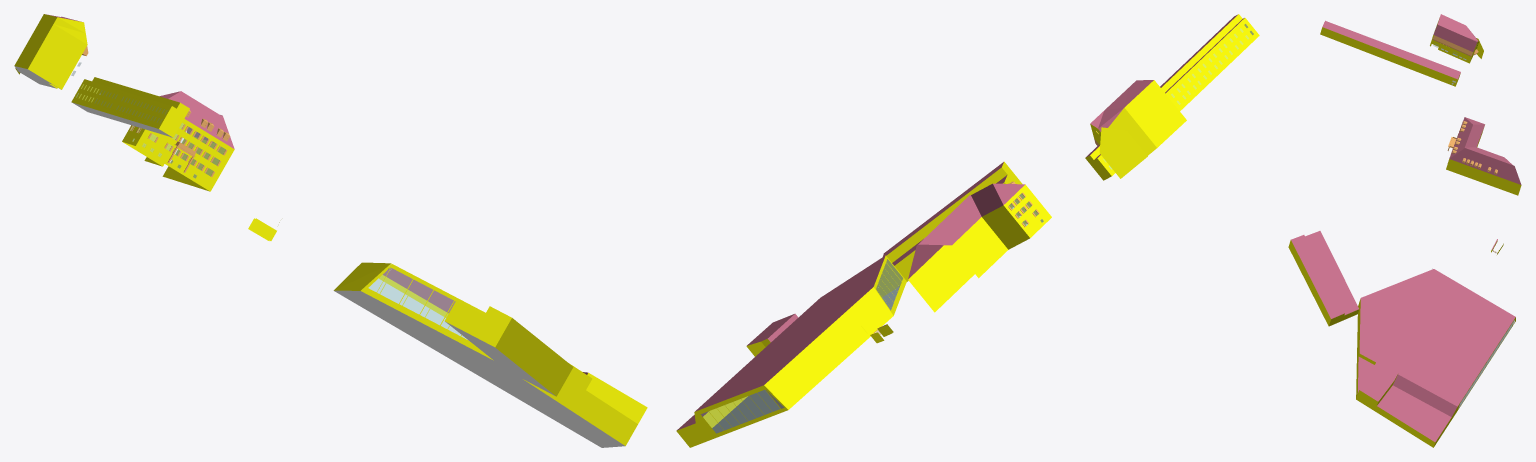
3 renders of one model, left to right at view 1: azimuth 30°, elevation 25°; view 2: azimuth 150°, elevation 25°; view 3: azimuth 270°, elevation 25°, orthographic. The views are drawn at different scales.
Parts seen in each view (by area): view 1: mesh; view 2: mesh; view 3: mesh.
Part boxes in pixels (left/top/right/bottom): mesh: left=14, top=14, right=647, bottom=447; mesh: left=676, top=14, right=1259, bottom=447; mesh: left=1288, top=14, right=1521, bottom=447.
Size of the model in its own units: 173 by 158 by 113.
